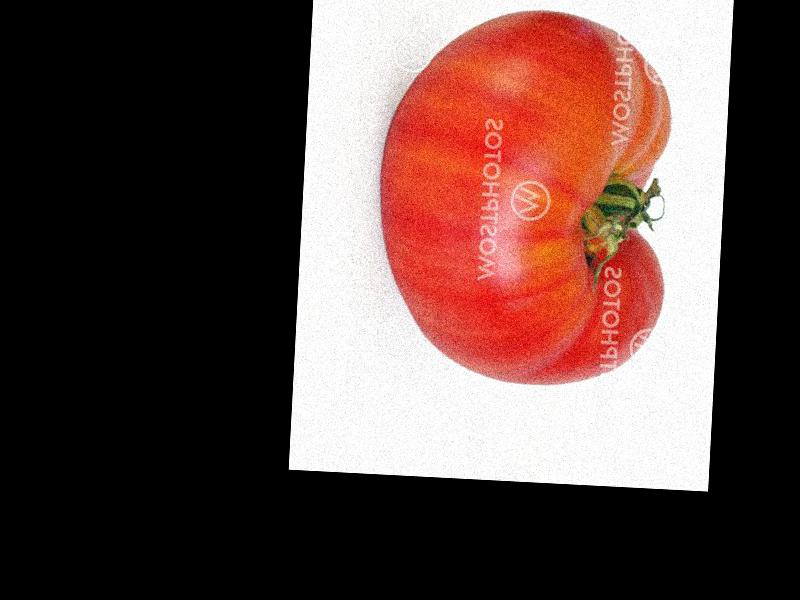Tomato: (371, 2, 678, 389)
